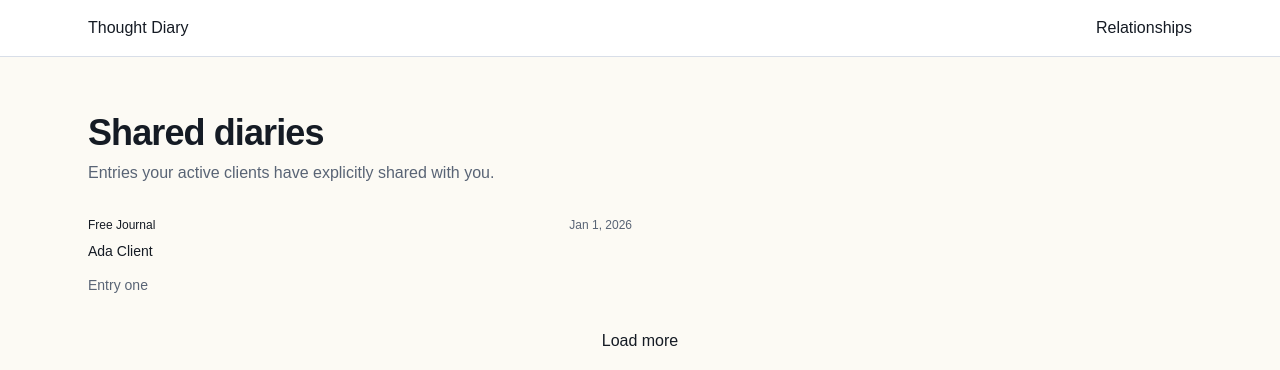
Test case: counselor shared diaries › appends cursor pages, forwards the cursor, and prevents duplicate loading
Expected: the text "Ada Client" is shown, [88,243,153,259]
Click the button "Load more": (640, 341) [602,329,678,353]
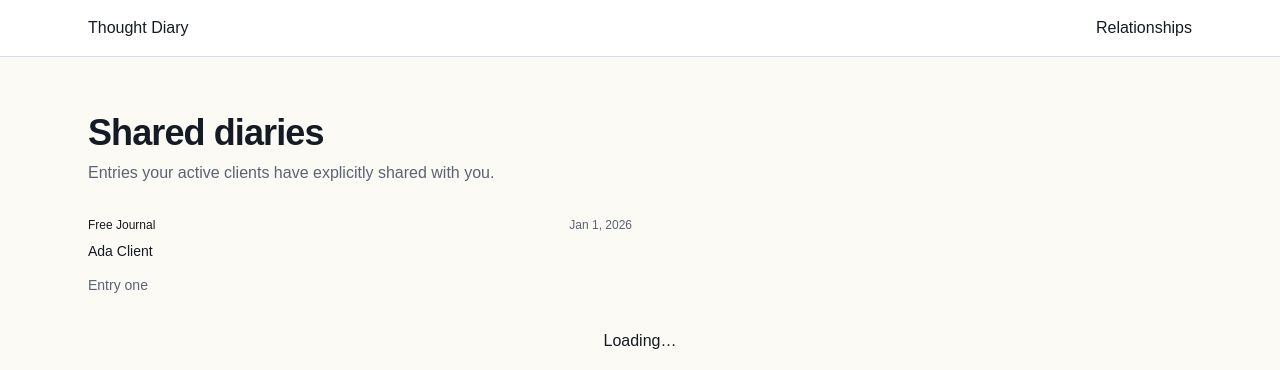
Click the button "Loading…": (640, 341) [604,329,676,353]
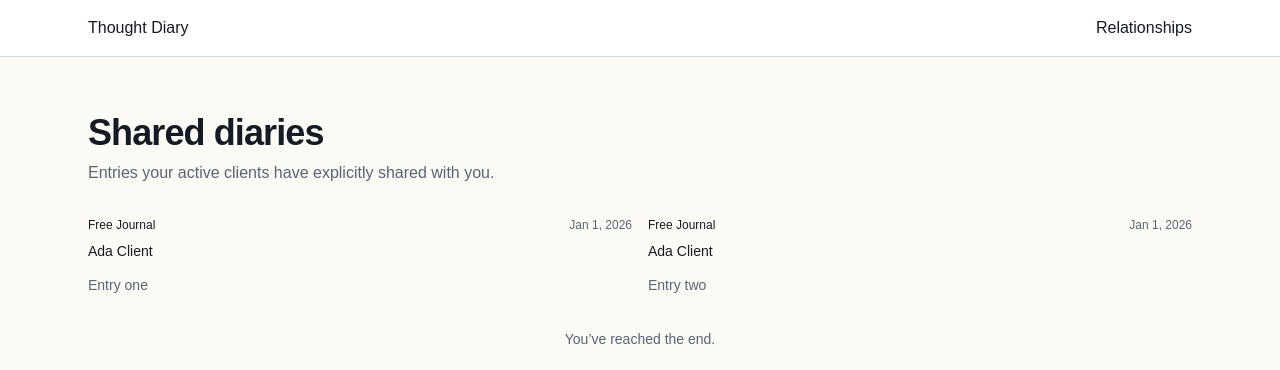
Expected: the text "Entry two" is shown, [648,277,706,293]
Expected: the text "You’ve reached the end." is shown, [565,331,715,347]
